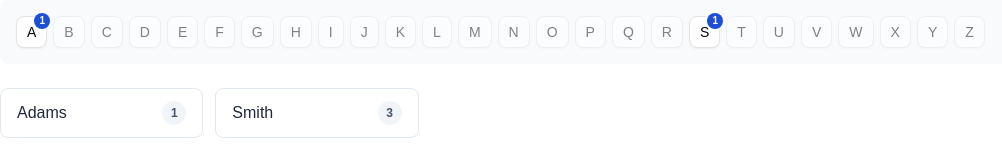
Scenario: SurnameBrowser › replaces the URL when a letter is selected and cleared (#946)
This screenshot has width=1002, height=160.
Expected: the text "Adams" is shown, x1=17 y1=101 x2=67 y2=125
Click the button "S 1": (705, 32) x1=689 y1=16 x2=720 y2=48
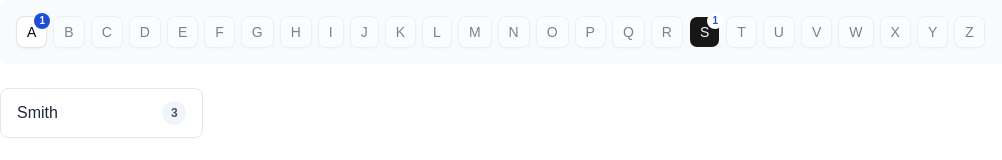
Now the link "Adams" is gone
Click the button "S 1": (705, 32) x1=689 y1=16 x2=720 y2=48
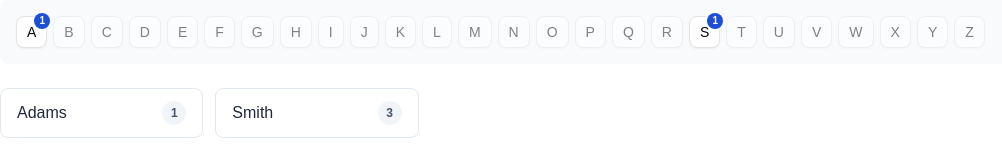
Now the text "Adams" is shown, box x1=17 y1=101 x2=67 y2=125
